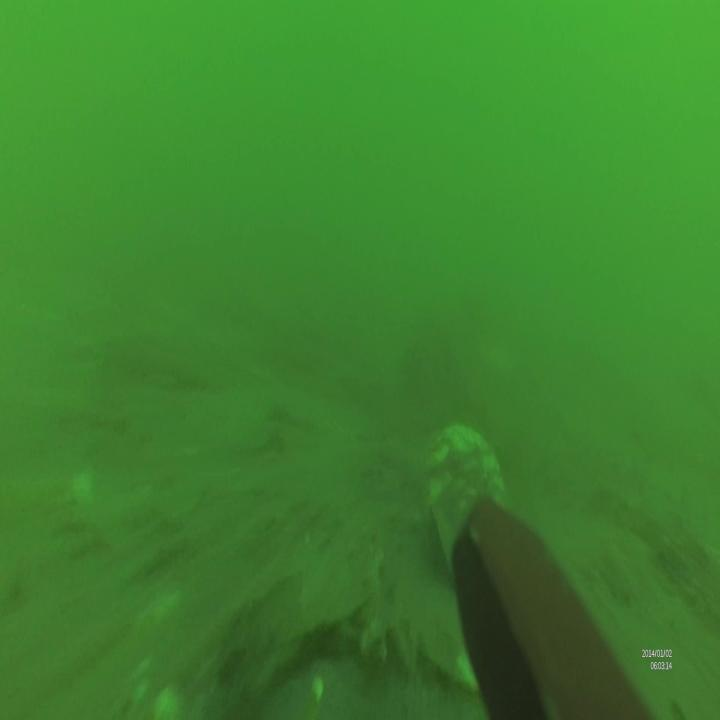scallop: (425, 424, 505, 522)
